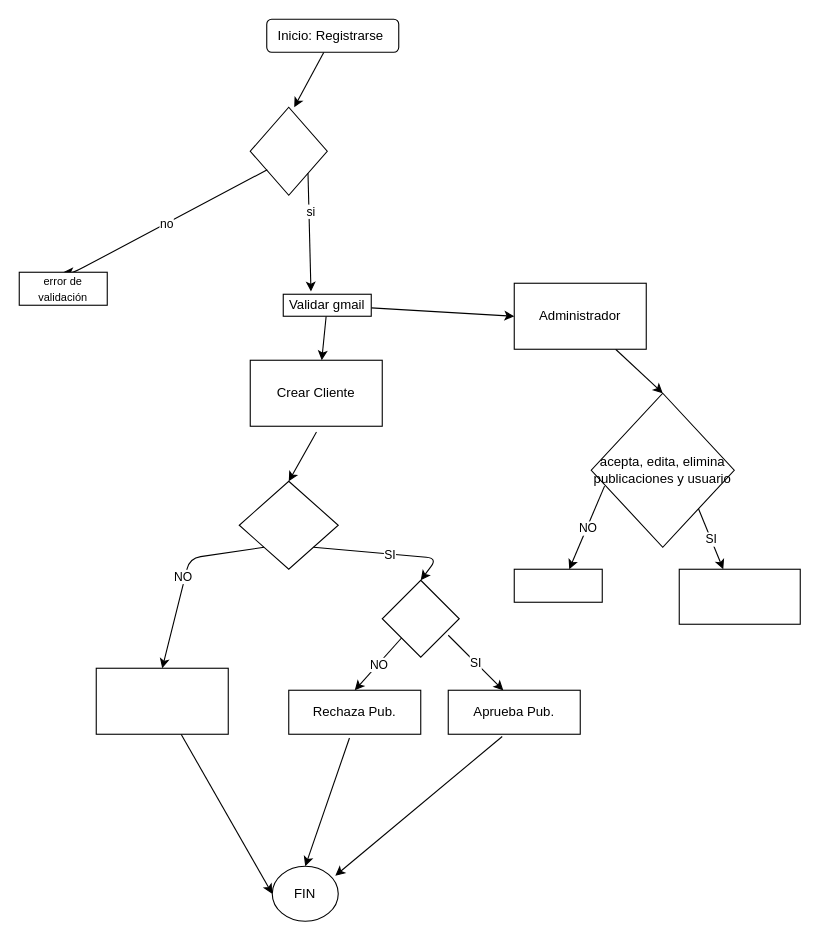
This 820x941 diagram has some shape labels left out. The shapes that lost their labels are listed below. From the top down, each one's box as (x1, y1, x2, y2) in pixels, then its label:
(249, 106, 327, 195): Iniciar sesión
(238, 480, 338, 569): Publicar Carta
(513, 568, 602, 602): error sistema
(381, 579, 459, 657): validar carta
(95, 667, 228, 734): Error, publicación rechazada
